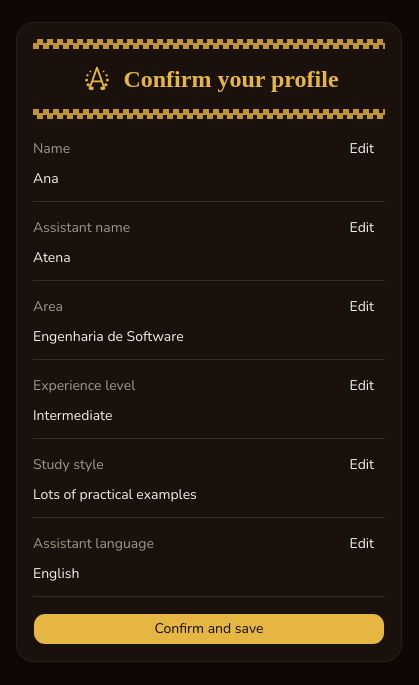
Scenario: OnboardingConfirmScreen › toggles a row between Edit and Save
When clicking Edit, then Save
Click the button "Edit" in the row of "Area".
click(362, 307)  # box top-left (339, 293), bottom-right (385, 321)
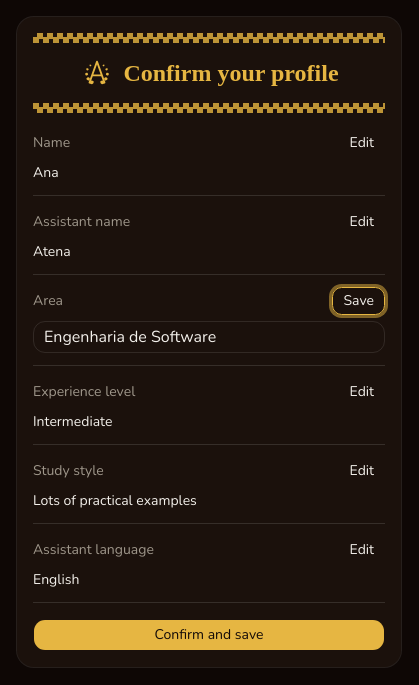
Check: the button "Save" is shown
Click the button "Save".
click(359, 301)  # box top-left (332, 287), bottom-right (385, 315)
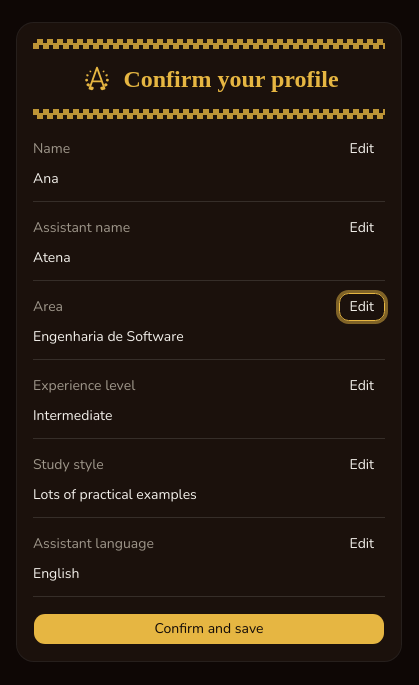
Check: the button "Edit" in the row of "Area" is shown, box top-left (339, 293), bottom-right (385, 321)
Check: the text "Engenharia de Software" is shown, box top-left (33, 327), bottom-right (184, 346)
